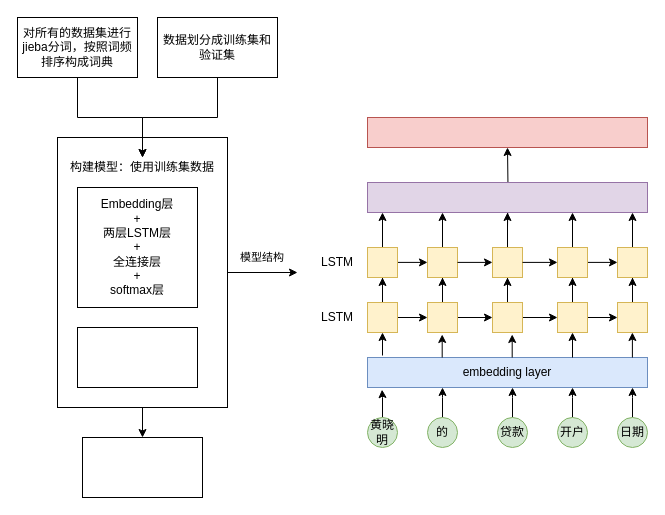
The diagram is 665 pixels wide and 515 high, and some of its shapes have lost their labels. The centre of each missing label's shape, as x and y in pixels:
"fully connected layer" goes at pixel 507 197.
"softmax layer" goes at pixel 507 132.
"交叉熵损失函数，优化器采用sgd" goes at pixel 137 357.
"使用验证集验证模型效果，评估指标acc" goes at pixel 142 467.
